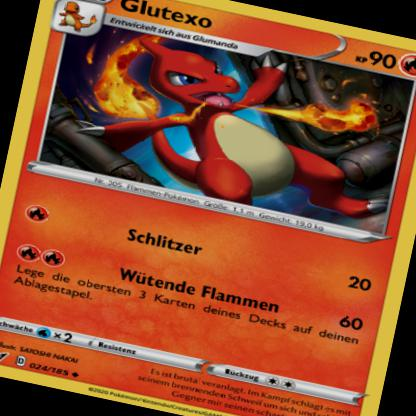Charmeleon: (82, 28, 415, 233)
